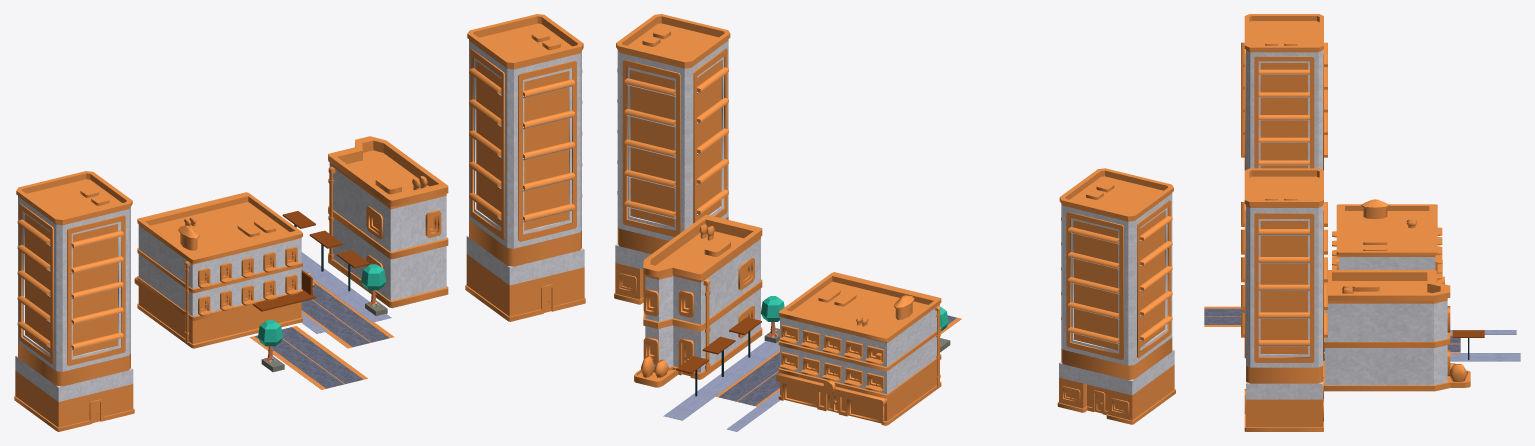
The model's file is Street-1.obj.
The picture shows the model from 3 angles, left to right: view 1: azimuth 30°, elevation 25°; view 2: azimuth 150°, elevation 25°; view 3: azimuth 270°, elevation 25°; orthographic projection. The views are drawn at different scales.
Parts seen in each view (by area): view 1: surface3, surface2, surface5, surface8, surface7, surface4, surface6, surface15; view 2: surface3, surface2, surface7, surface5, surface8, surface15; view 3: surface3, surface2, surface7, surface5.
Part boxes in pixels (bbox=[...]): surface3: bbox=[14, 14, 585, 431]; surface2: bbox=[15, 41, 584, 401]; surface5: bbox=[275, 287, 384, 387]; surface8: bbox=[252, 211, 369, 311]; surface7: bbox=[301, 252, 391, 333]; surface4: bbox=[250, 279, 394, 389]; surface6: bbox=[255, 282, 389, 388]; surface15: bbox=[258, 264, 386, 346]; surface3: bbox=[614, 14, 1175, 425]; surface2: bbox=[615, 40, 1174, 395]; surface7: bbox=[663, 341, 780, 431]; surface5: bbox=[723, 315, 952, 404]; surface8: bbox=[676, 317, 761, 373]; surface15: bbox=[761, 296, 948, 330]; surface3: bbox=[1241, 14, 1470, 431]; surface2: bbox=[1246, 50, 1447, 399]; surface7: bbox=[1450, 330, 1520, 361]; surface5: bbox=[1204, 311, 1460, 349].
Size of the model in its own units: 68.88 by 31.68 by 39.5.
